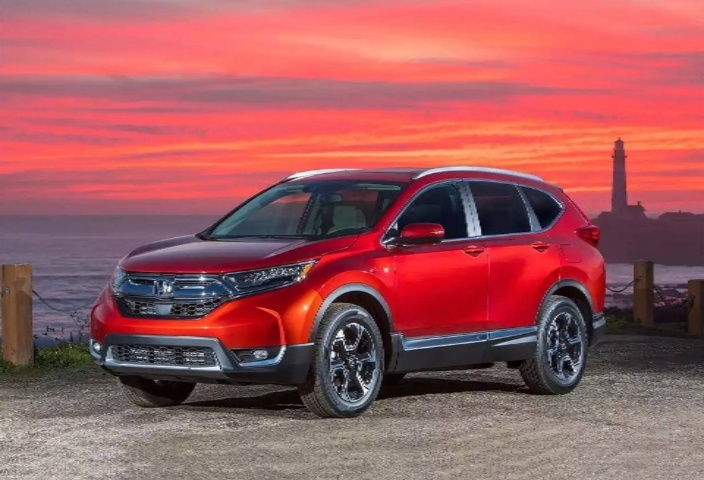camper: (36, 160, 615, 419)
